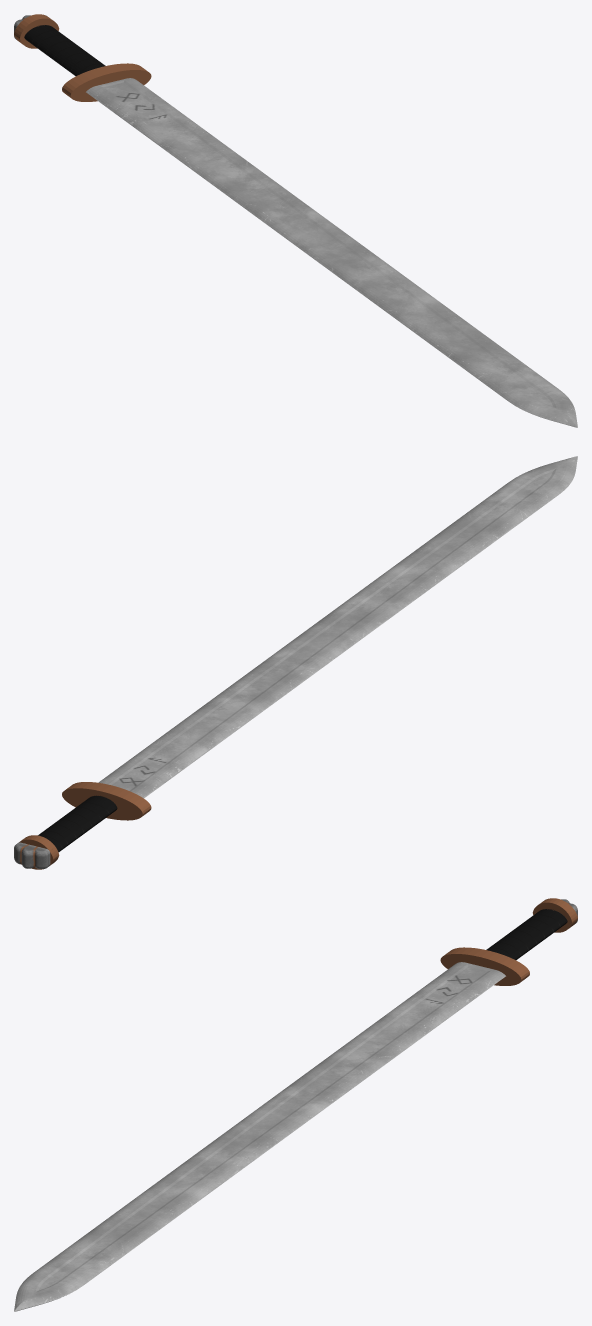
File: Viking  Sword.fbx
3 renders of one model, top to bottom at view 1: azimuth 30°, elevation 25°; view 2: azimuth 150°, elevation 25°; view 3: azimuth 330°, elevation 25°, orthographic.
Visible parts, largest first — view 1: Объект Плоскость, Объект Цилиндр; view 2: Объект Плоскость, Объект Цилиндр, Объект Плоскость.3; view 3: Объект Плоскость, Объект Цилиндр.
Boxes of the visible parts, bbox=[...] form: Объект Плоскость: bbox=[86, 78, 577, 427]; Объект Цилиндр: bbox=[14, 14, 151, 101]; Объект Плоскость: bbox=[98, 456, 577, 798]; Объект Цилиндр: bbox=[19, 782, 151, 869]; Объект Плоскость.3: bbox=[14, 842, 50, 868]; Объект Плоскость: bbox=[14, 962, 505, 1311]; Объект Цилиндр: bbox=[440, 898, 577, 985].
Bounding box in the file's own units: 8 × 2.74 × 94.65.
1 material, 1 textured.
